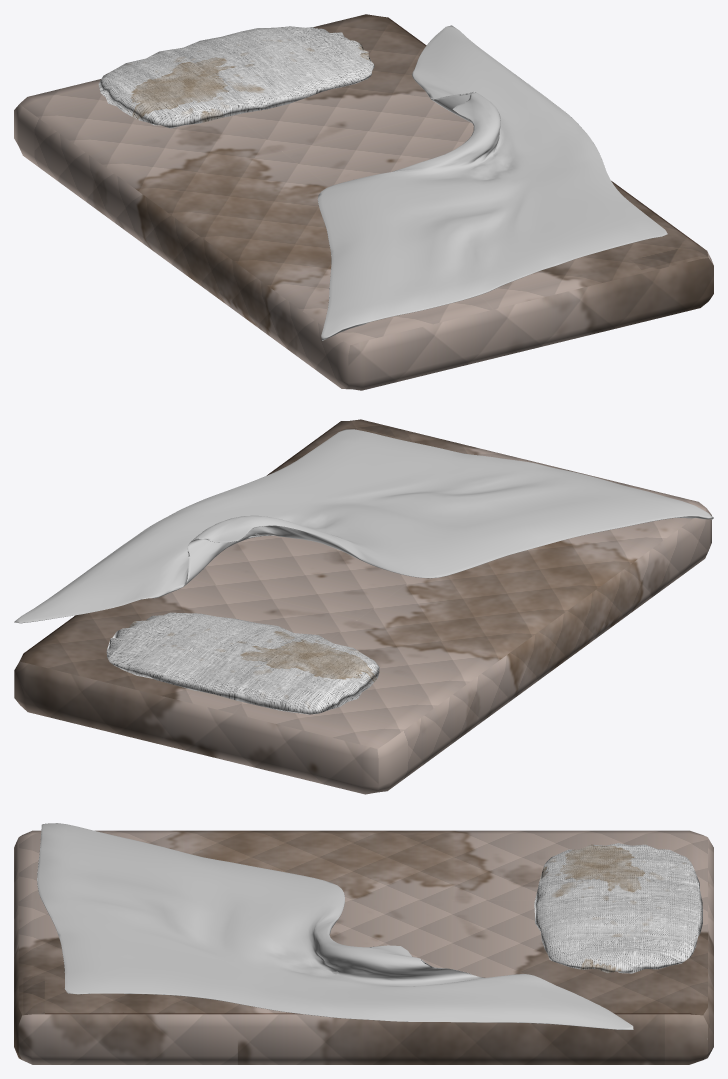
The model's file is Disgusting bed NEW.fbx.
3 views of the same model, one above another, from view 1: azimuth 30°, elevation 25°; view 2: azimuth 150°, elevation 25°; view 3: azimuth 270°, elevation 25° (orthographic). The views are drawn at different scales.
Visible parts, largest first — view 1: Matress, Blanket, Pillow; view 2: Matress, Blanket, Pillow; view 3: Matress, Blanket, Pillow.
Boxes of the visible parts, x1,y1,x2,y2 form: Matress: (14,14,713,390); Blanket: (317,25,667,340); Pillow: (98,26,374,128); Matress: (14,419,711,794); Blanket: (14,429,713,623); Pillow: (106,612,379,714); Matress: (14,830,713,1064); Blanket: (37,823,633,1029); Pillow: (534,843,702,973).
Size of the model in its own units: 156 by 30.78 by 220.
